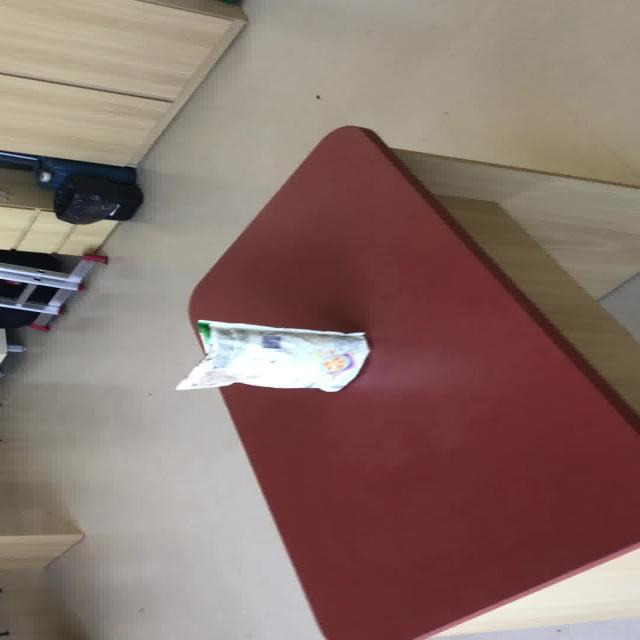corn flakes: (177, 124, 637, 637), (174, 318, 370, 393)
